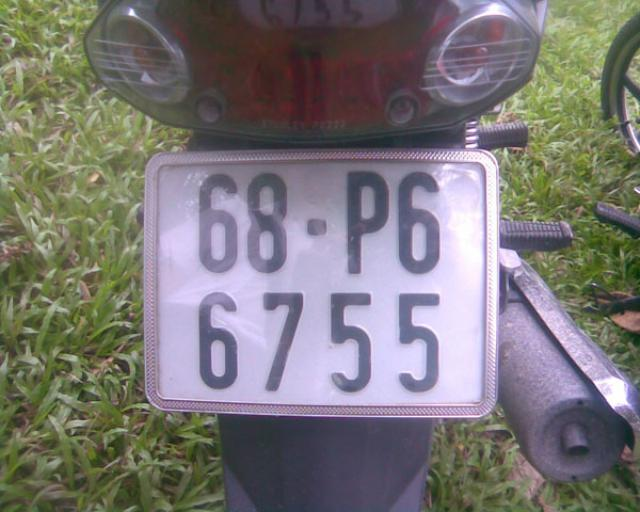plate: (148, 150, 490, 416)
